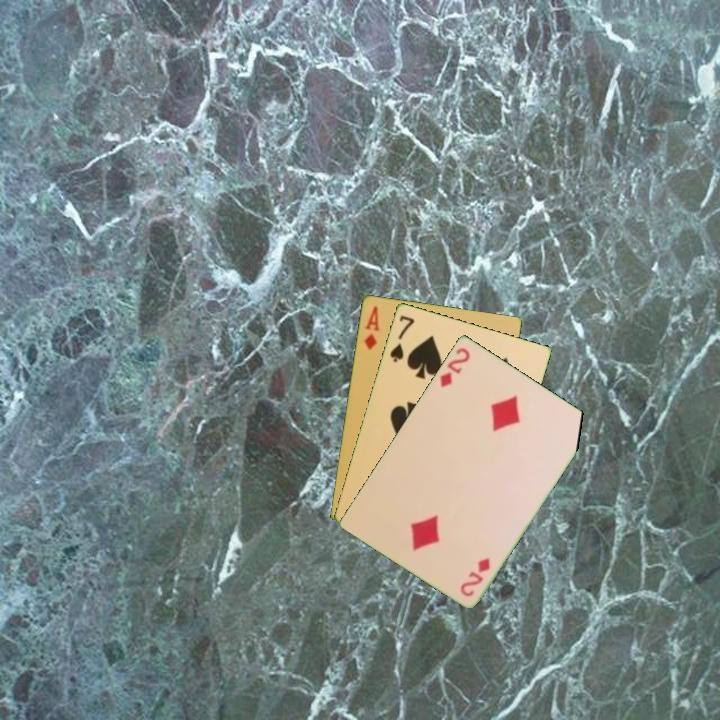2d: (436, 343, 473, 390), (456, 554, 493, 599)
7s: (386, 311, 417, 365)
Ad: (360, 302, 382, 352)
